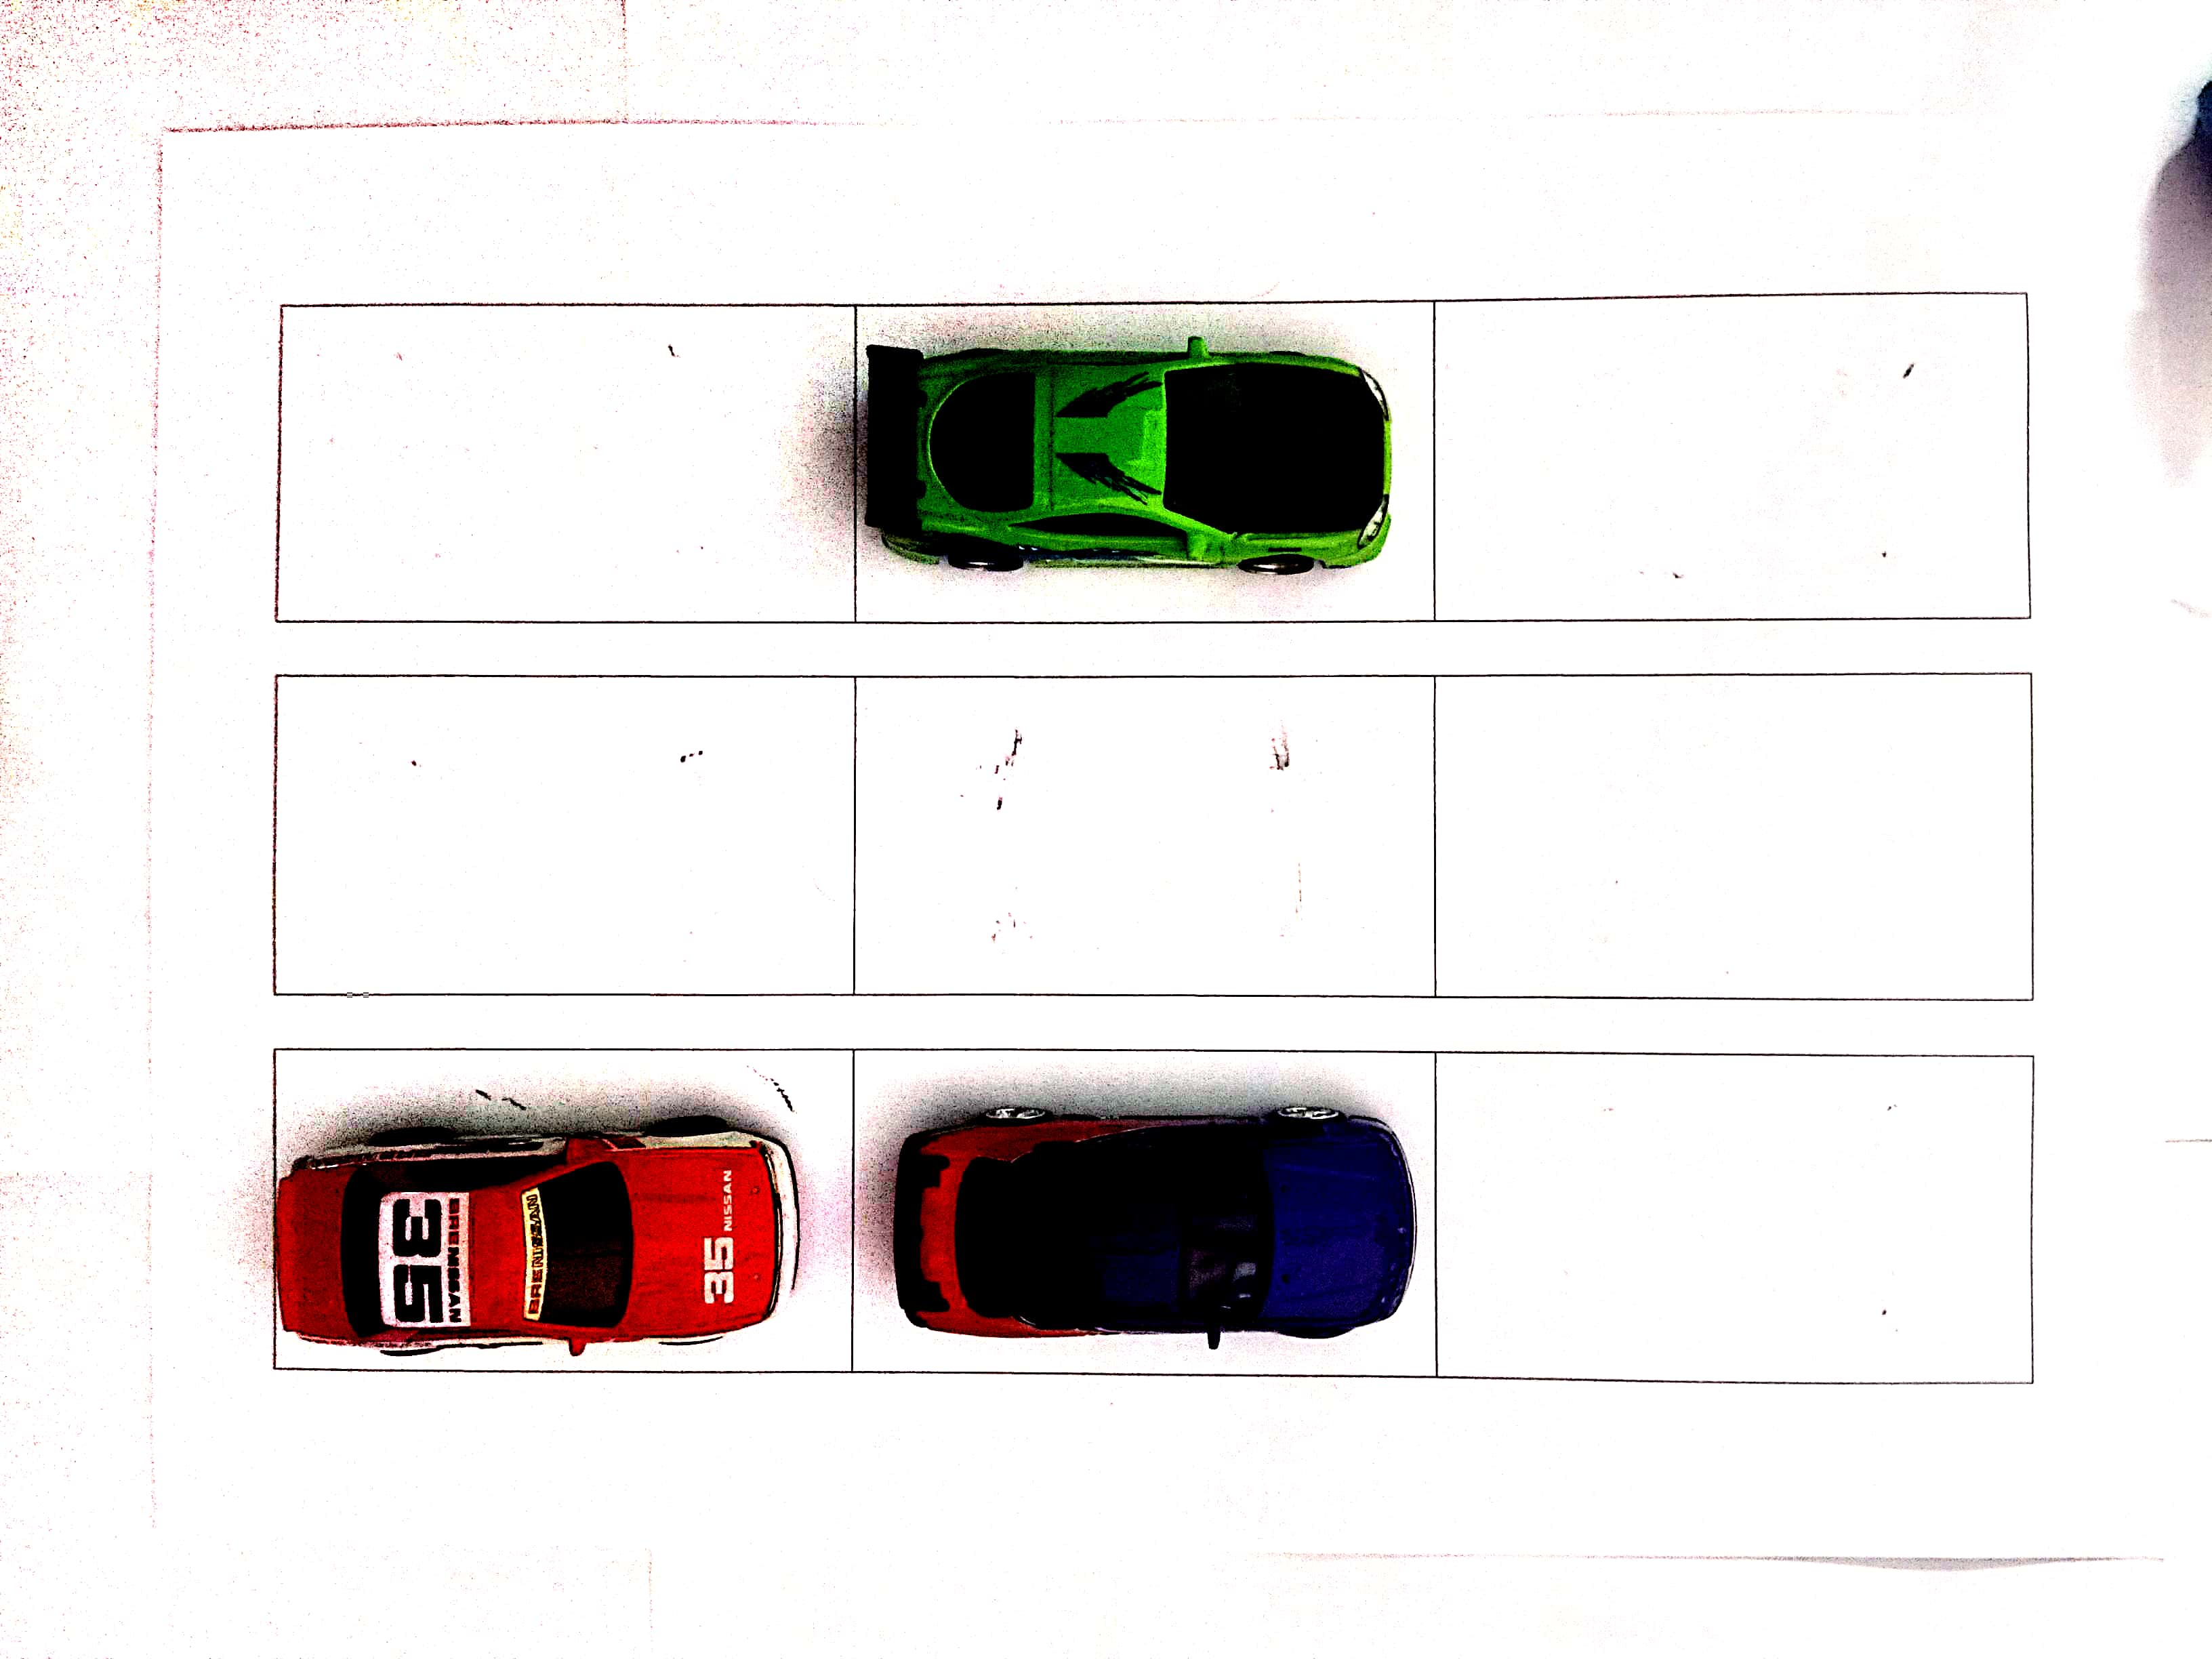Busy: (852, 1049, 1433, 1378), (277, 1046, 857, 1375), (853, 305, 1433, 615)
Free: (1437, 1049, 2029, 1378), (1433, 676, 2033, 993), (1440, 301, 2033, 622), (852, 676, 1432, 997), (273, 680, 848, 992), (282, 308, 853, 622)
